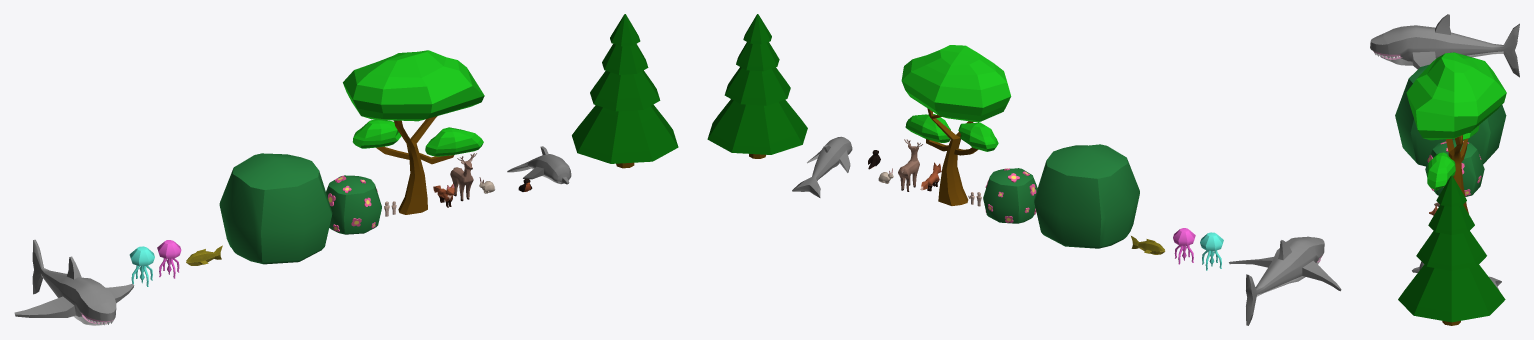
Rendered from oak.glb.
3 views of the same model, side by side, from view 1: azimuth 30°, elevation 25°; view 2: azimuth 150°, elevation 25°; view 3: azimuth 270°, elevation 25° (orthographic). The views are drawn at different scales.
Parts seen in each view (by area): view 1: pCylinder2.001, bush_geo1, pCylinder2, base1, bush_geo, pCylinder1.003, pCylinder1.004, pCylinder6.001, pCylinder6; view 2: pCylinder2.001, bush_geo1, pCylinder2, base1, bush_geo, pCylinder1.003, pCylinder1.004, pCylinder6.001, pCylinder6; view 3: pCylinder2, pCylinder2.001, base1, bush_geo1, bush_geo, pCylinder1.003.
Part boxes in pixels (bbox=[...]): pCylinder2.001: bbox=[343, 50, 484, 214]; bush_geo1: bbox=[219, 153, 332, 264]; pCylinder2: bbox=[572, 14, 678, 168]; base1: bbox=[14, 239, 134, 325]; bush_geo: bbox=[326, 175, 381, 234]; pCylinder1.003: bbox=[507, 146, 571, 184]; pCylinder1.004: bbox=[450, 153, 476, 201]; pCylinder6.001: bbox=[129, 246, 154, 286]; pCylinder6: bbox=[157, 240, 181, 278]; pCylinder2.001: bbox=[901, 45, 1011, 205]; bush_geo1: bbox=[1034, 144, 1139, 248]; pCylinder2: bbox=[707, 14, 807, 158]; base1: bbox=[1229, 236, 1341, 325]; bush_geo: bbox=[983, 168, 1037, 223]; pCylinder1.003: bbox=[792, 136, 852, 197]; pCylinder1.004: bbox=[898, 139, 922, 191]; pCylinder6.001: bbox=[1200, 232, 1223, 270]; pCylinder6: bbox=[1173, 228, 1195, 264]; pCylinder2: bbox=[1398, 175, 1505, 325]; pCylinder2.001: bbox=[1406, 52, 1506, 213]; base1: bbox=[1370, 14, 1519, 77]; bush_geo1: bbox=[1395, 64, 1506, 166]; bush_geo: bbox=[1425, 139, 1484, 196]; pCylinder1.003: bbox=[1412, 261, 1501, 290].
Bounding box in the file's own units: 13 × 3.47 × 2.61.
Materials: 15 (15 with a texture image).
